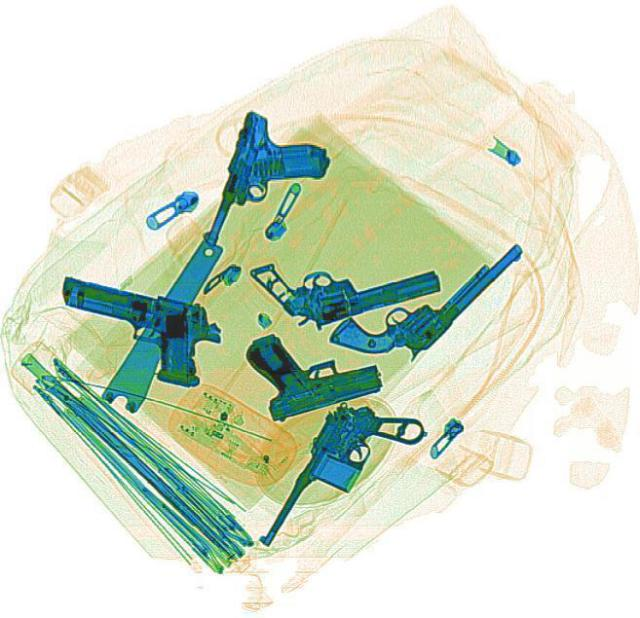Gun: (323, 197, 524, 389), (254, 384, 428, 577), (243, 220, 442, 334), (40, 270, 228, 390), (200, 108, 338, 265), (238, 308, 386, 422)
